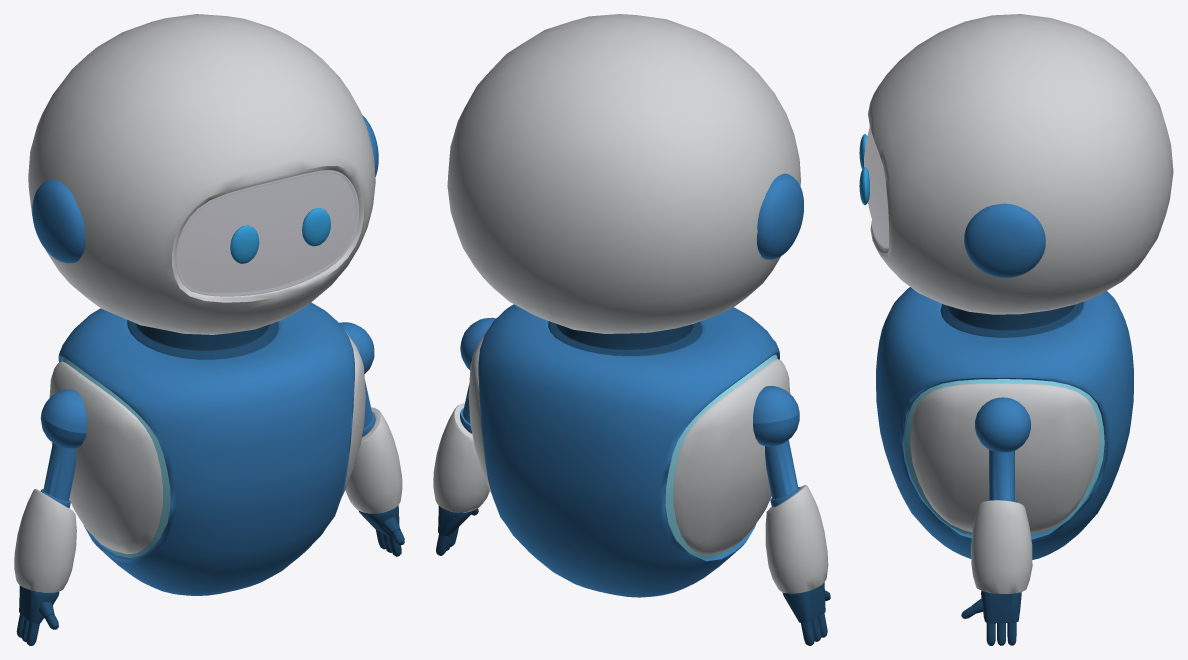
Rendered from chatbot_robot.glb.
3 views of the same model, side by side, from view 1: azimuth 30°, elevation 25°; view 2: azimuth 150°, elevation 25°; view 3: azimuth 270°, elevation 25° (orthographic). The views are drawn at different scales.
Parts seen in each view (by area): view 1: chatbot_robot; view 2: chatbot_robot; view 3: chatbot_robot.
Part boxes in pixels (<box>): chatbot_robot: <box>14,14,404,645</box>; chatbot_robot: <box>433,14,830,645</box>; chatbot_robot: <box>859,14,1173,645</box>.
Size of the model in its own units: 0.1662 by 0.235 by 0.126.
